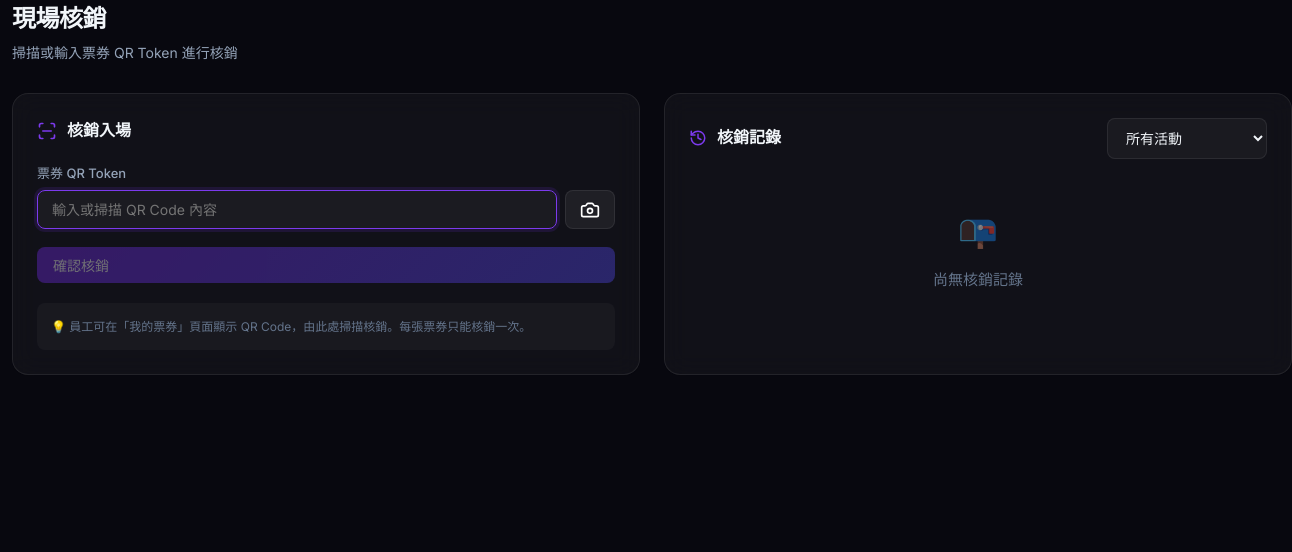
Test: CheckIn › 找不到票券錯誤會顯示對應訊息
Type "UNKNOWN-TOKEN" into the field with placeholder "輸入或掃描 QR Code 內容". click: (297, 210)
box: 37,190 -> 557,229
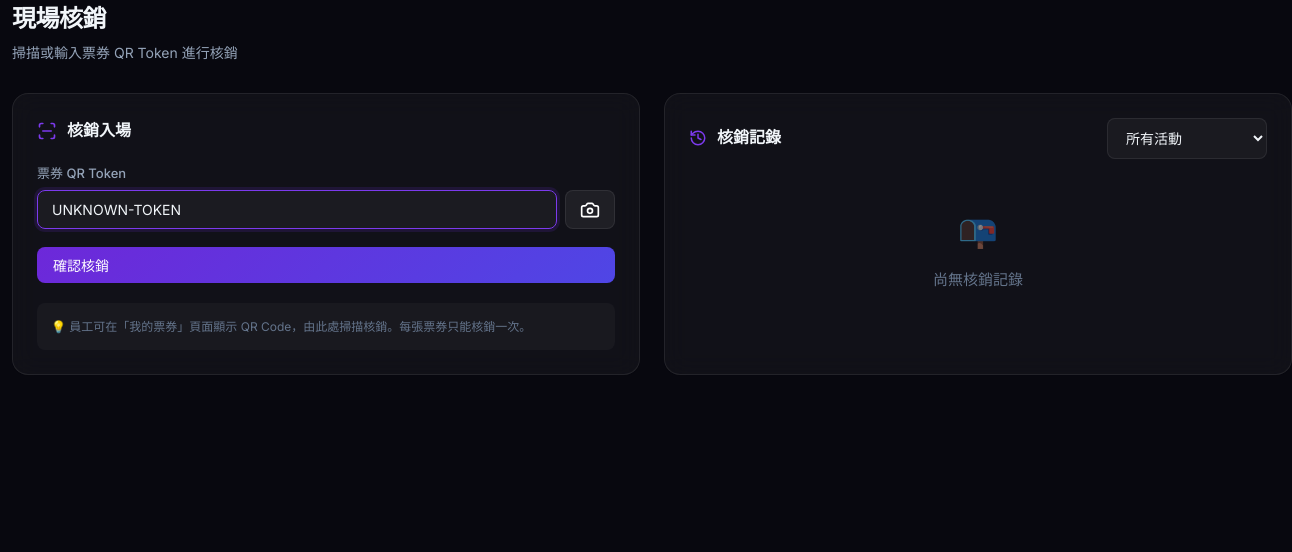
Click the button "確認核銷". click: (81, 266)
box: 37,247 -> 615,283
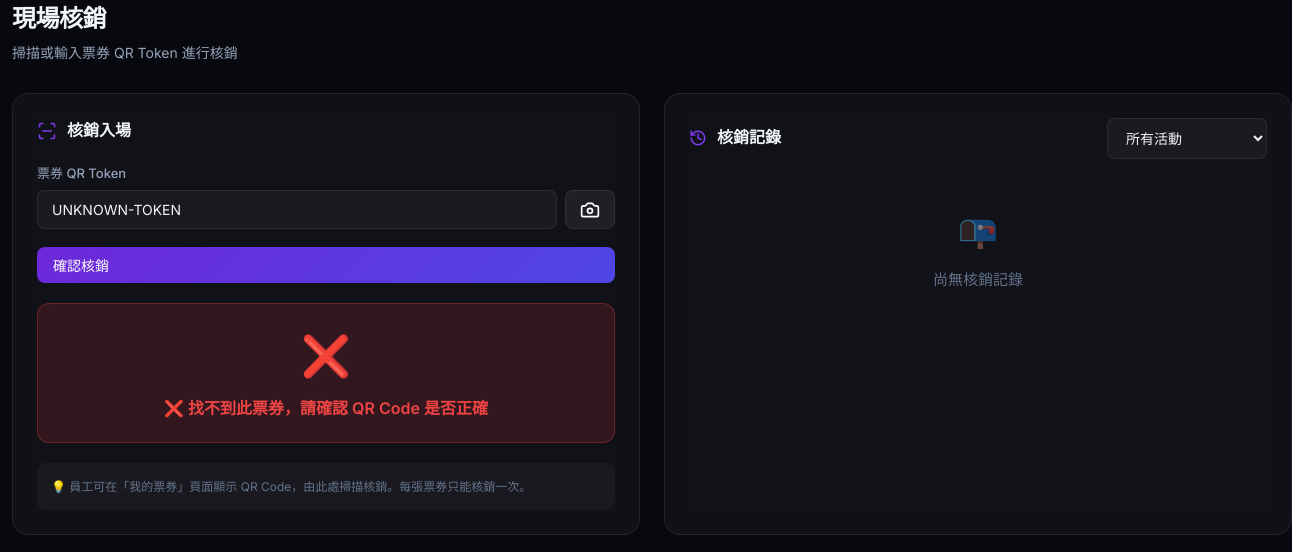
Expected: the text "❌ 找不到此票券，請確認 QR Code 是否正確" is shown, 164,398 -> 488,418
